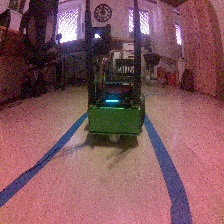rob: (86, 58, 145, 143)
